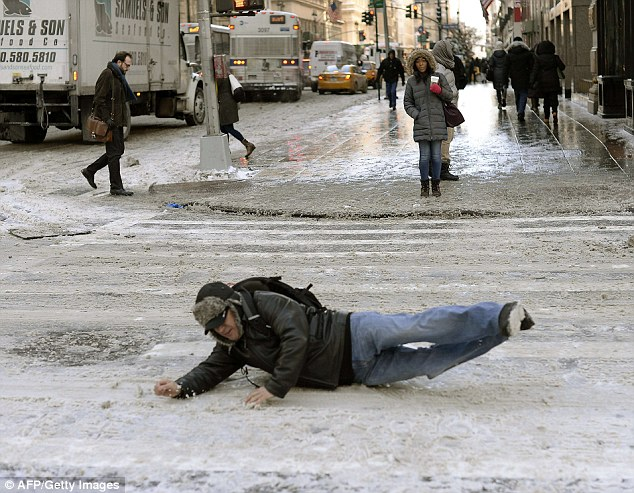fall: (160, 250, 541, 417)
